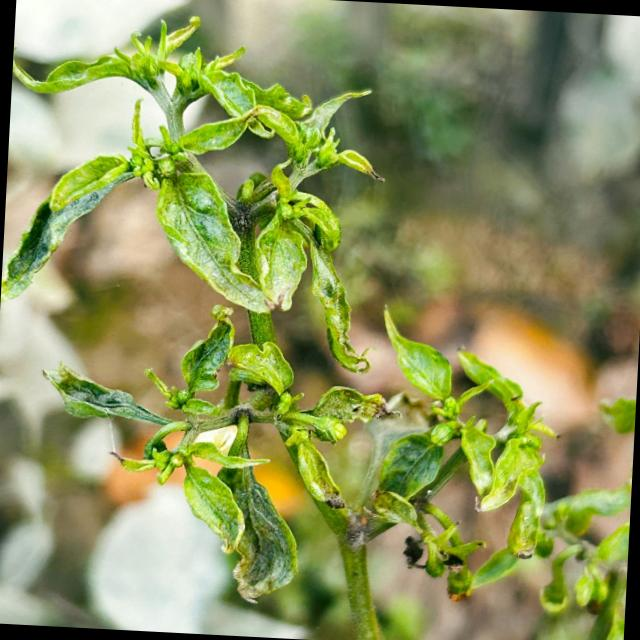Chilli_Leaf_Curl: (0, 4, 585, 640), (0, 6, 394, 363), (360, 304, 565, 606), (378, 304, 457, 402)
